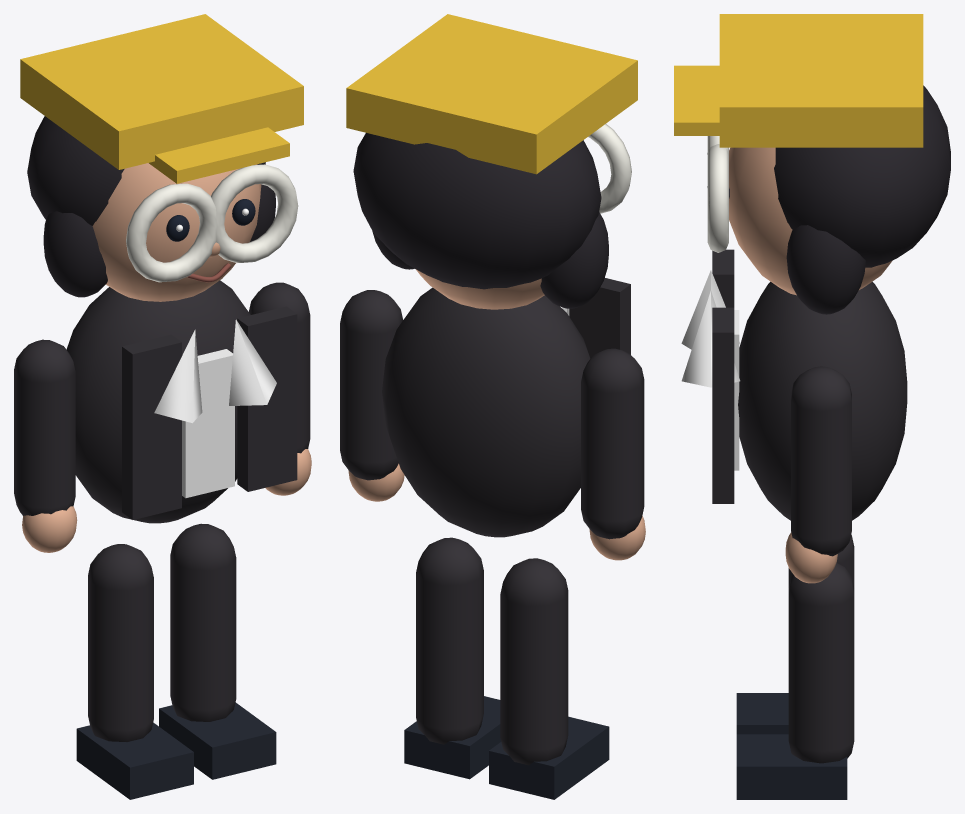
File: profile-angela.glb
3 views of the same model, side by side, from view 1: azimuth 30°, elevation 25°; view 2: azimuth 150°, elevation 25°; view 3: azimuth 270°, elevation 25° (orthographic). The views are drawn at different scales.
Parts seen in each view (by area): view 1: yellow-cap, jacket-panel (×2), tailored-torso, right-leg-mesh, left-leg-mesh, left-sleeve, face, white-goggles (×2), hair-back, shirt-panel, left-shoe, right-shoe (+6 smaller); view 2: tailored-torso, yellow-cap, hair-back, left-leg-mesh, right-leg-mesh, left-sleeve, right-sleeve, left-shoe, right-shoe, hair-side, jacket-panel, face (+3 smaller); view 3: yellow-cap, tailored-torso, hair-back, right-leg-mesh, right-sleeve, face, right-shoe, jacket-panel (×2), hair-side, cap-brim, lapel (×2), white-goggles (+4 smaller).
Part boxes in pixels (x1=…): yellow-cap: x1=20, y1=14, x2=303, y2=169; jacket-panel (×2): x1=122, y1=306, x2=297, y2=519; tailored-torso: x1=66, y1=280, x2=250, y2=523; right-leg-mesh: x1=170, y1=523, x2=236, y2=721; left-leg-mesh: x1=88, y1=544, x2=153, y2=741; left-sleeve: x1=14, y1=339, x2=75, y2=515; face: x1=92, y1=163, x2=261, y2=301; white-goggles (×2): x1=126, y1=164, x2=298, y2=282; hair-back: x1=27, y1=116, x2=265, y2=225; shirt-panel: x1=182, y1=349, x2=234, y2=498; left-shoe: x1=76, y1=722, x2=193, y2=799; right-shoe: x1=159, y1=702, x2=276, y2=779; tailored-torso: x1=382, y1=287, x2=590, y2=537; yellow-cap: x1=346, y1=14, x2=637, y2=174; hair-back: x1=353, y1=133, x2=601, y2=289; left-leg-mesh: x1=500, y1=558, x2=568, y2=765; right-leg-mesh: x1=416, y1=537, x2=483, y2=744; left-sleeve: x1=581, y1=348, x2=644, y2=539; right-sleeve: x1=340, y1=290, x2=402, y2=480; left-shoe: x1=489, y1=716, x2=609, y2=799; right-shoe: x1=404, y1=696, x2=501, y2=779; hair-side: x1=540, y1=212, x2=608, y2=308; jacket-panel: x1=569, y1=278, x2=630, y2=358; face: x1=416, y1=269, x2=544, y2=309; yellow-cap: x1=719, y1=14, x2=923, y2=147; tailored-torso: x1=738, y1=281, x2=907, y2=520; hair-back: x1=774, y1=85, x2=950, y2=267; right-leg-mesh: x1=788, y1=562, x2=854, y2=763; right-sleeve: x1=791, y1=366, x2=851, y2=556; face: x1=729, y1=147, x2=892, y2=295; right-shoe: x1=736, y1=734, x2=847, y2=799; jacket-panel (×2): x1=712, y1=249, x2=734, y2=503; hair-side: x1=786, y1=225, x2=865, y2=314; cap-brim: x1=674, y1=65, x2=719, y2=135; lapel (×2): x1=681, y1=270, x2=740, y2=387; white-goggles: x1=707, y1=144, x2=728, y2=252.
Size of the model in its own units: 1.4 by 3.16 by 1.13.
